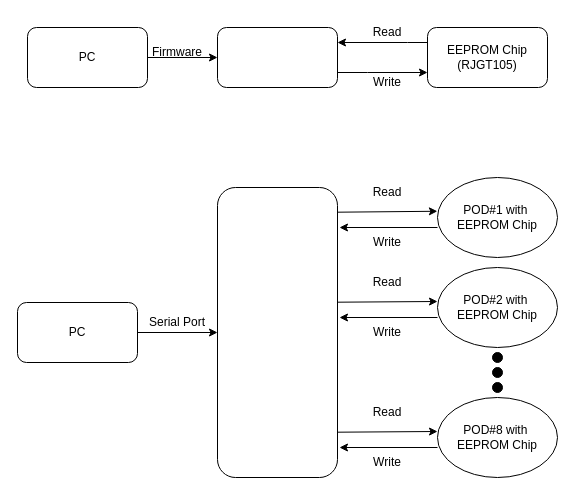
This 575x495 diagram has some shape labels left out. The centre of each missing label's shape, as x and y in pixels:
"EEPROM Programmer" belongs at (277,332).
"PCBA MCU(STM32)" belongs at (277,57).
